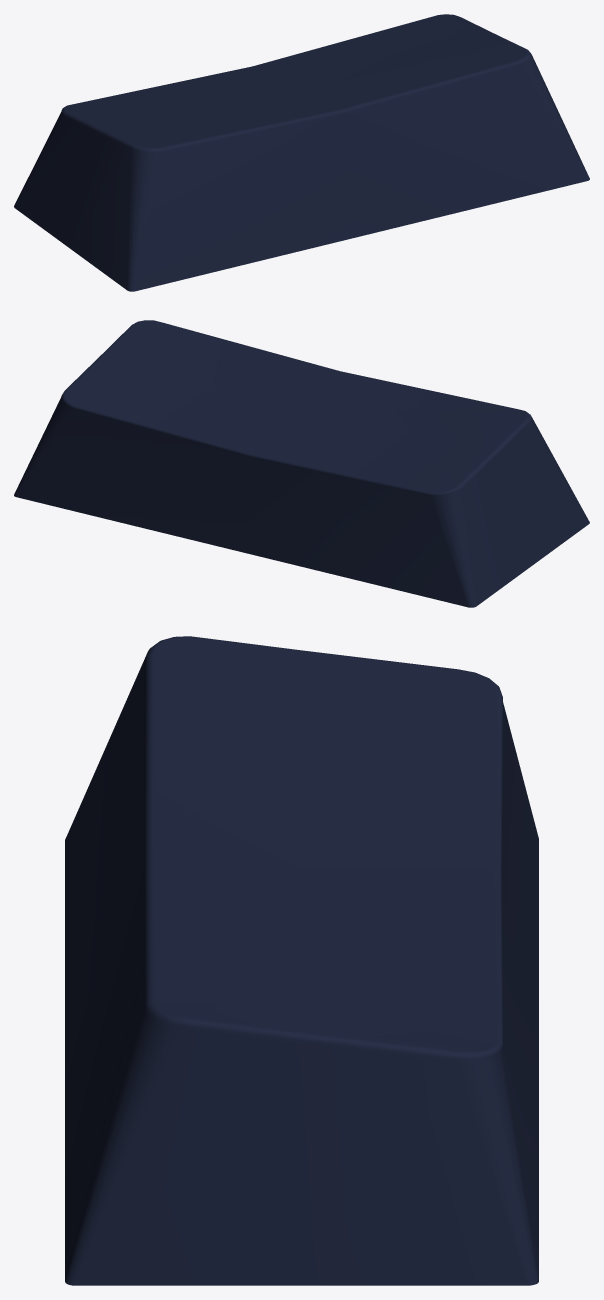
Rendered from cherry2u.glb.
The picture shows the model from 3 angles, top to bottom: view 1: azimuth 30°, elevation 25°; view 2: azimuth 150°, elevation 25°; view 3: azimuth 270°, elevation 25°; orthographic projection. The views are drawn at different scales.
Visible parts, largest first — view 1: R4_2.25U_Mesh; view 2: R4_2.25U_Mesh; view 3: R4_2.25U_Mesh.
Boxes of the visible parts, x1,y1,x2,y2 form: R4_2.25U_Mesh: [14, 14, 589, 291]; R4_2.25U_Mesh: [14, 320, 589, 607]; R4_2.25U_Mesh: [65, 636, 538, 1285].
Bounding box in the file's own units: 0.0406 × 0.0098 × 0.018.
